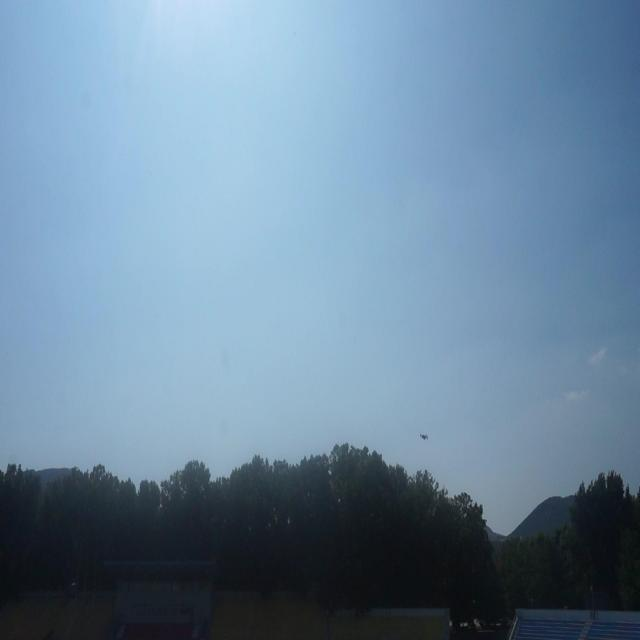UAV: (420, 433, 428, 440)
